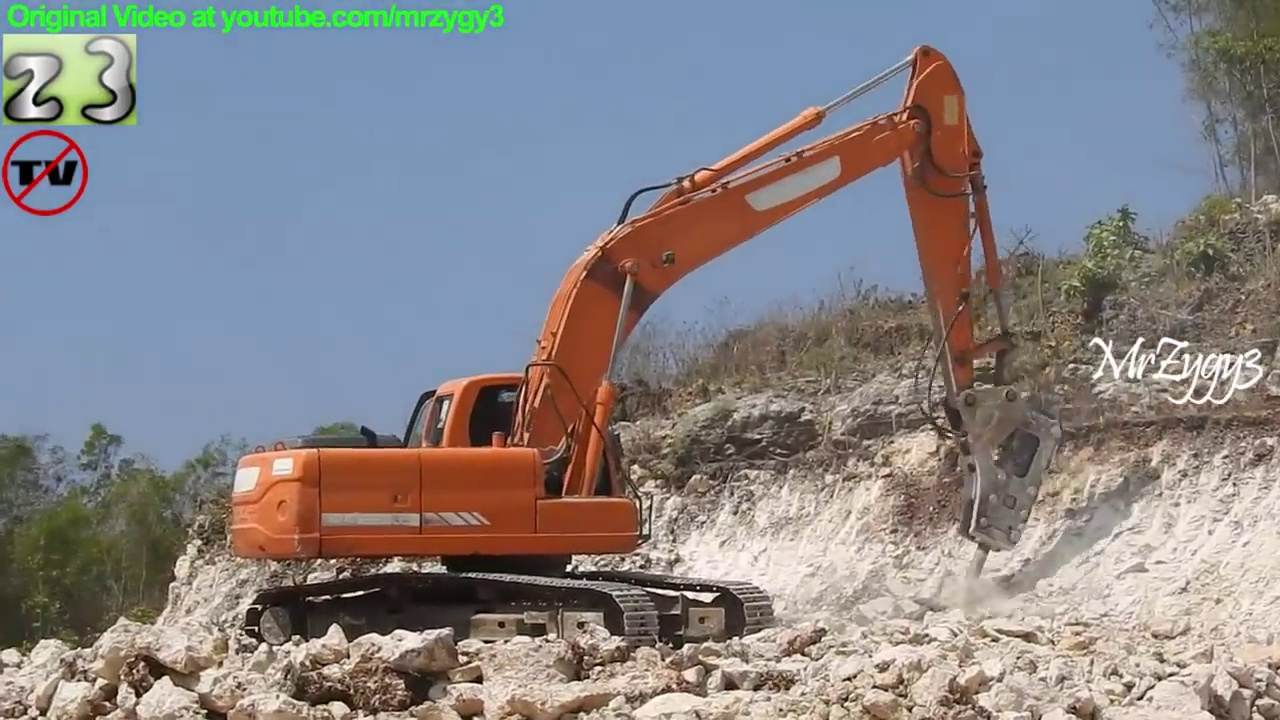excavator breaker: (223, 41, 1072, 668)
